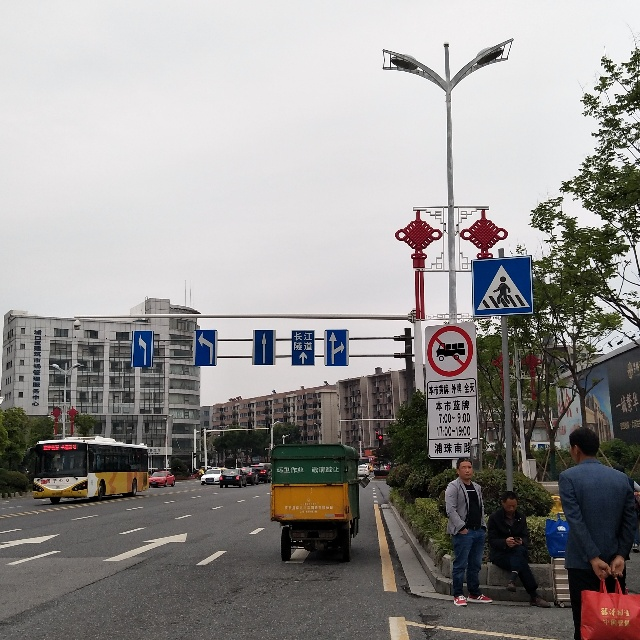crosswalk: (471, 255, 534, 316)
left: (192, 329, 218, 366), (132, 330, 153, 368)
straight: (253, 329, 275, 366)
